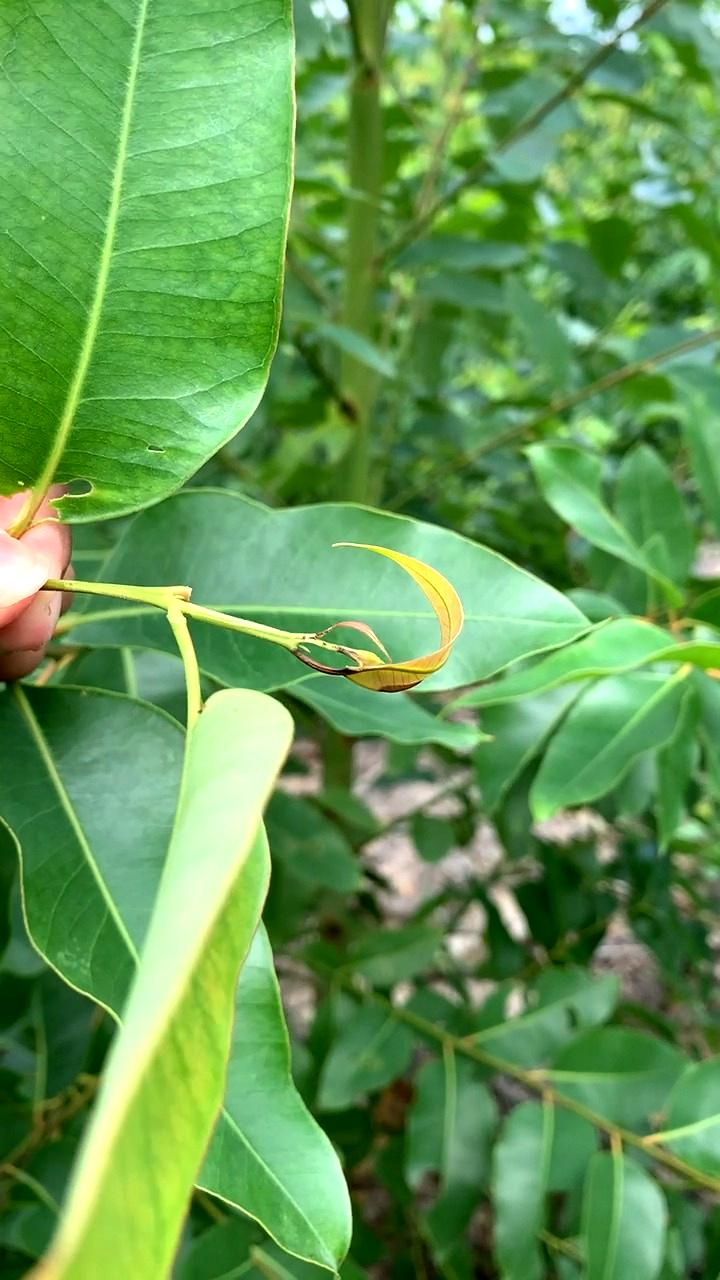Helopeltis-Withered Sprout: (301, 523, 471, 719)
